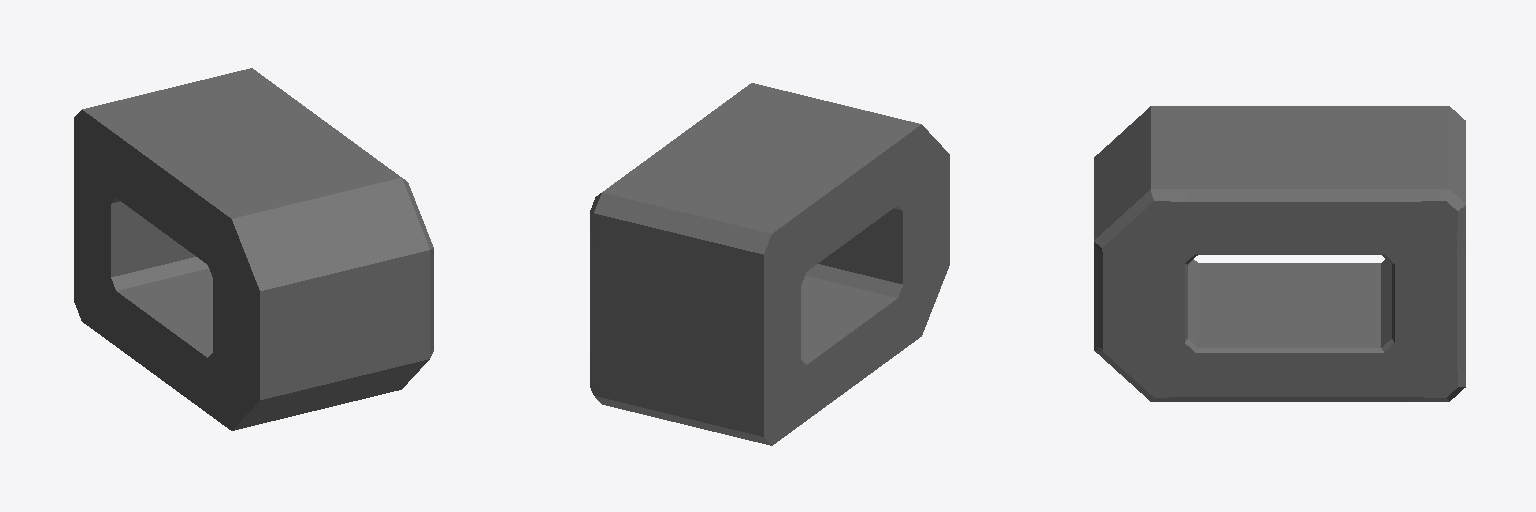
Rendered from frame.obj.
3 views of the same model, side by side, from view 1: azimuth 30°, elevation 25°; view 2: azimuth 150°, elevation 25°; view 3: azimuth 270°, elevation 25° (orthographic).
Parts seen in each view (by area): view 1: frame; view 2: frame; view 3: frame.
Boxes of the visible parts, <box> form: frame: <box>74,68,433,430</box>; frame: <box>590,83,949,445</box>; frame: <box>1094,106,1465,401</box>.
Bounding box in the file's own units: 3.88 × 4.42 × 7.04.